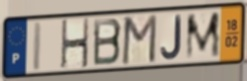B: (92, 17, 124, 68)
H: (60, 17, 90, 71)
I: (30, 20, 44, 73)
J: (160, 13, 183, 61)
M: (120, 13, 159, 67), (184, 10, 222, 62)
